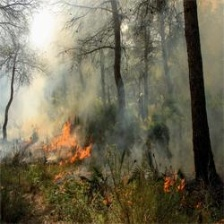fire: (31, 116, 91, 167), (158, 173, 187, 199)
smoke: (1, 9, 102, 111)
